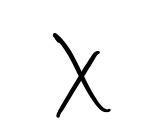mult: (51, 32, 112, 114)
